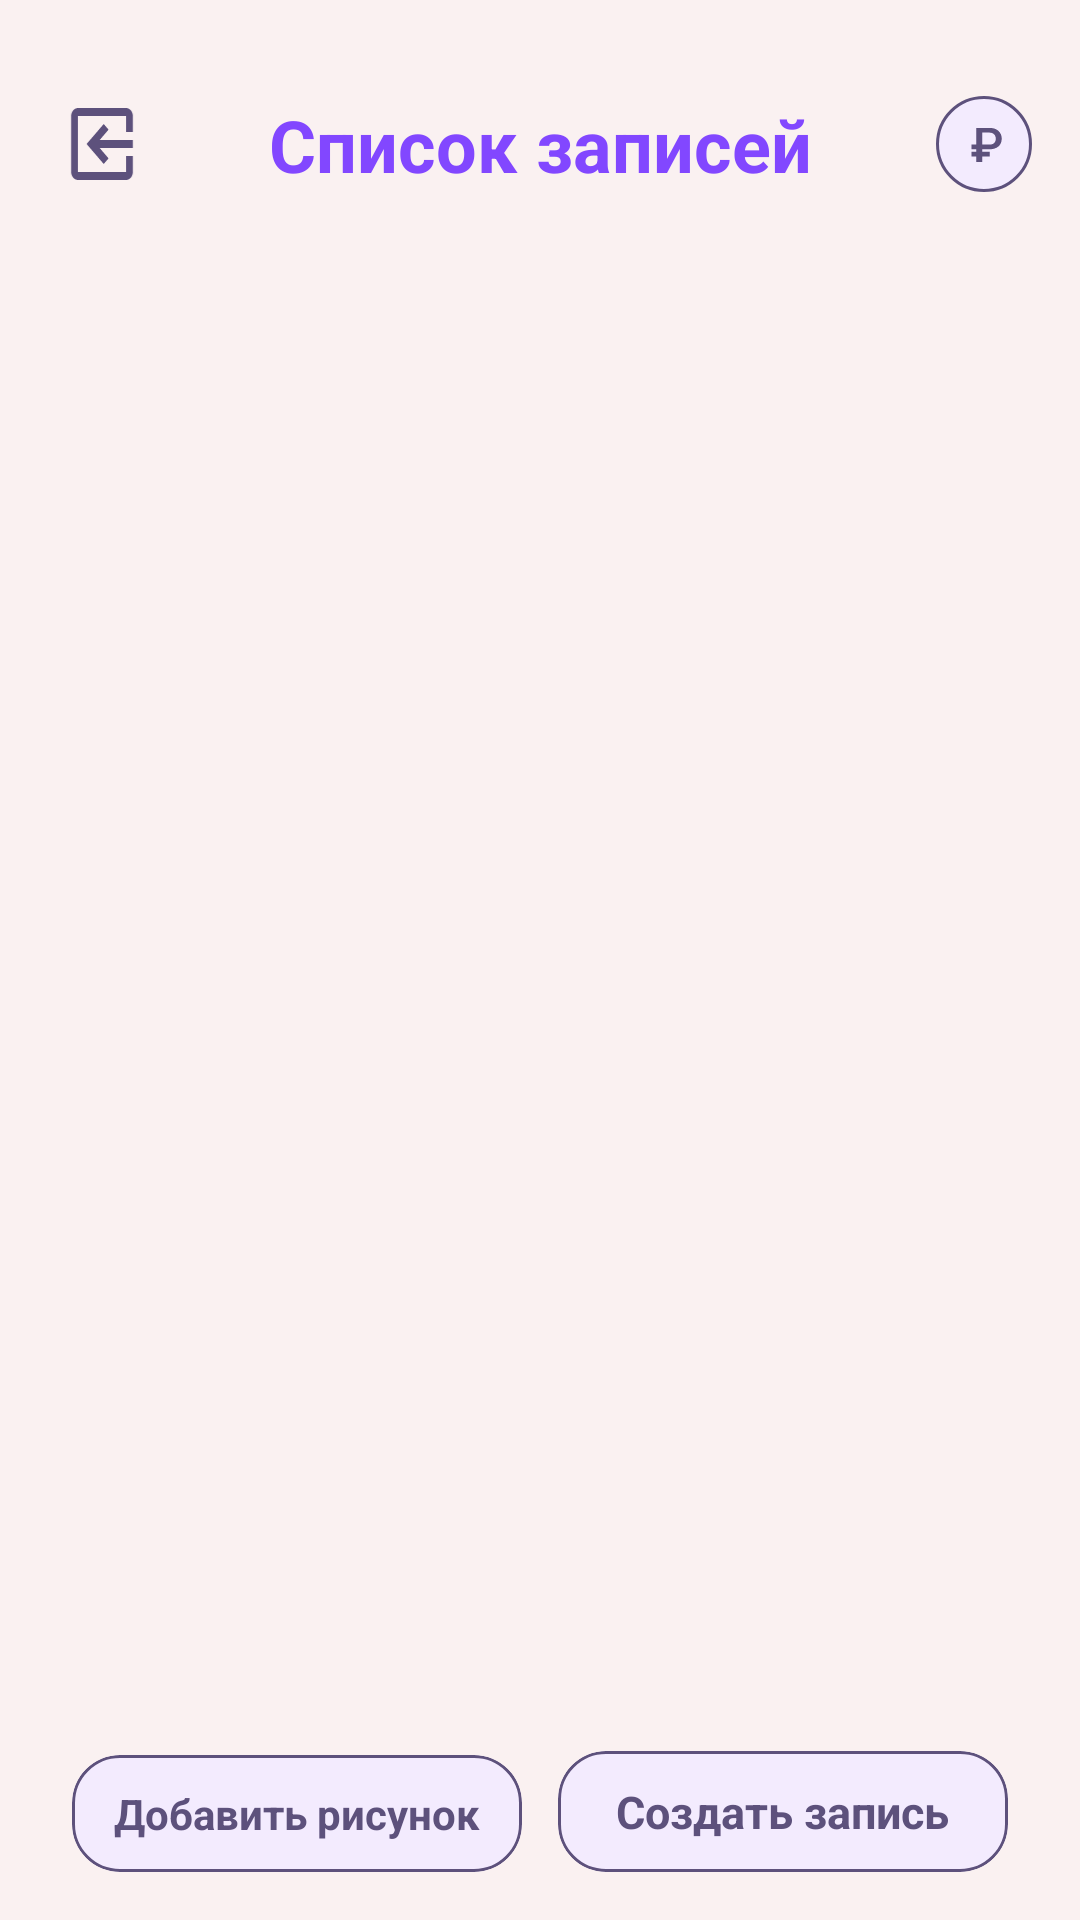

Icon bounding boxes for this 1080*1920 phone screenshot, format {"left": x1, "top": y1, "right": x2, "bottom": y2}:
ruble budet: {"left": 936, "top": 96, "right": 1032, "bottom": 192}
